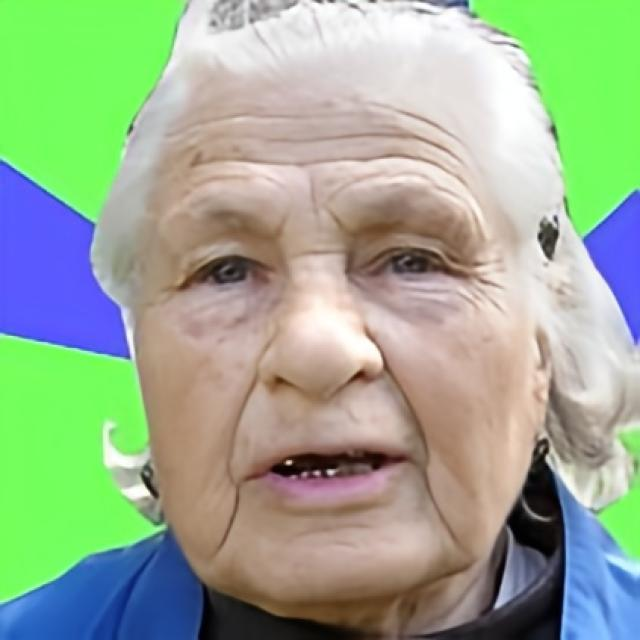anger: (136, 88, 530, 619)
